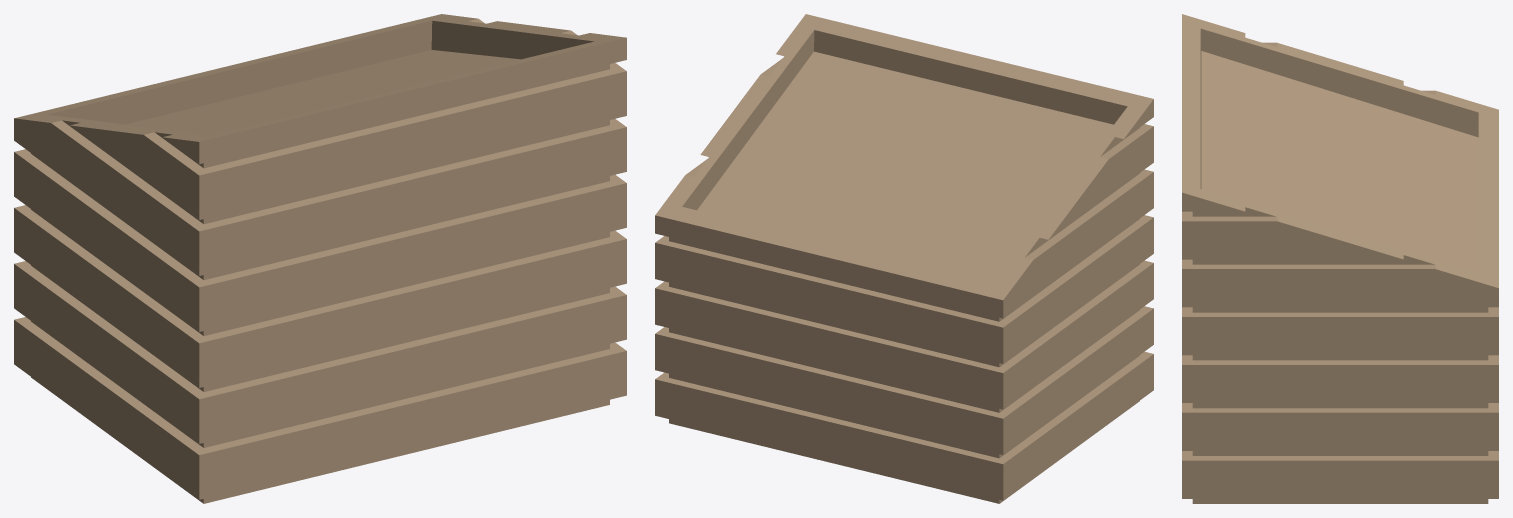
Rendered from shelfs.glb.
The picture shows the model from 3 angles, left to right: view 1: azimuth 30°, elevation 25°; view 2: azimuth 150°, elevation 25°; view 3: azimuth 270°, elevation 25°; orthographic projection. The views are drawn at different scales.
Visible parts, largest first — view 1: Mesh_Mesh_head_geo.001_lambert2SG.001; view 2: Mesh_Mesh_head_geo.001_lambert2SG.001; view 3: Mesh_Mesh_head_geo.001_lambert2SG.001.
Part boxes in pixels (x1,y1,x2,y2): Mesh_Mesh_head_geo.001_lambert2SG.001: (14,14,626,503); Mesh_Mesh_head_geo.001_lambert2SG.001: (655,14,1153,503); Mesh_Mesh_head_geo.001_lambert2SG.001: (1182,14,1498,503).
Bounding box in the file's own units: 0.04 × 0.033 × 0.03.
